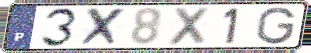1: (221, 7, 240, 45)
3: (37, 7, 81, 48)
8: (129, 6, 165, 47)
G: (255, 6, 297, 46)
X: (78, 6, 128, 47), (166, 6, 213, 47)
